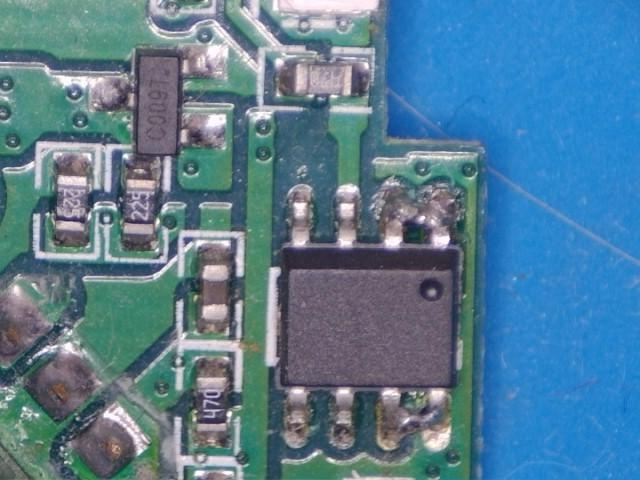pcb_defect: (370, 177, 460, 249), (380, 389, 446, 448)
